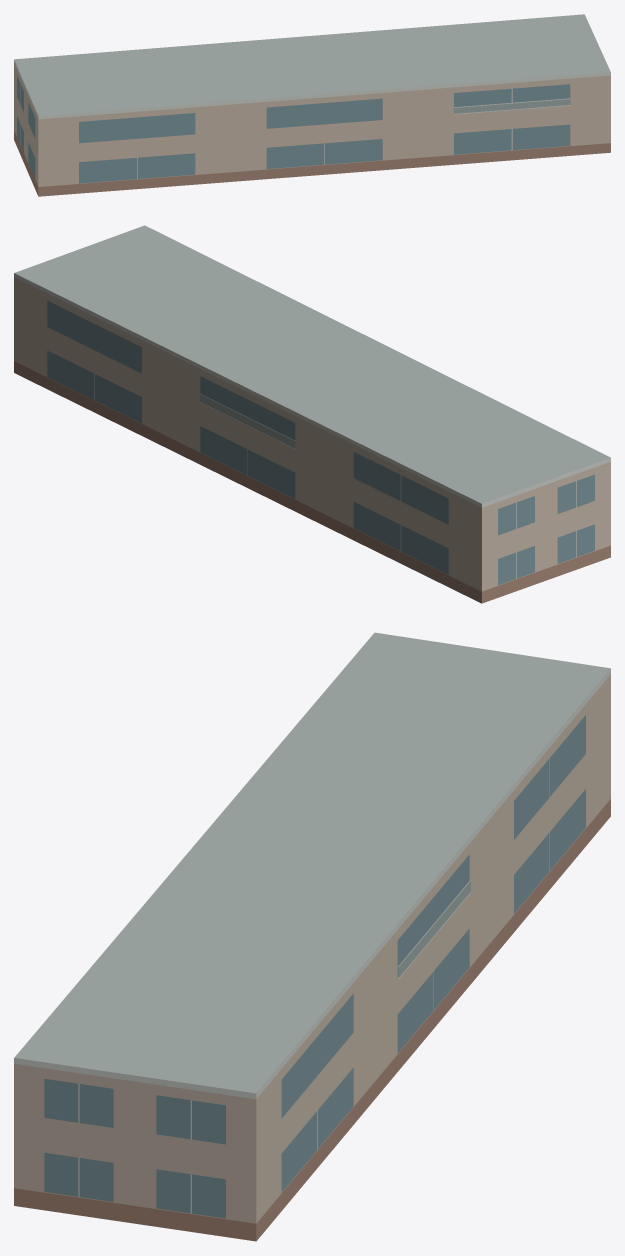
The model's file is survey-upis-32526628.glb.
3 views of the same model, one above another, from view 1: azimuth 30°, elevation 25°; view 2: azimuth 150°, elevation 25°; view 3: azimuth 270°, elevation 25° (orthographic). The views are drawn at different scales.
Parts seen in each view (by area): view 1: survey-upis-32526628.tmp; view 2: survey-upis-32526628.tmp; view 3: survey-upis-32526628.tmp.
Boxes of the visible parts, left/top/right/bottom form: survey-upis-32526628.tmp: left=14, top=14, right=610, bottom=196; survey-upis-32526628.tmp: left=14, top=225, right=610, bottom=603; survey-upis-32526628.tmp: left=14, top=632, right=610, bottom=1241.
Bounding box in the file's own units: 40.75 × 6.1 × 22.3.
